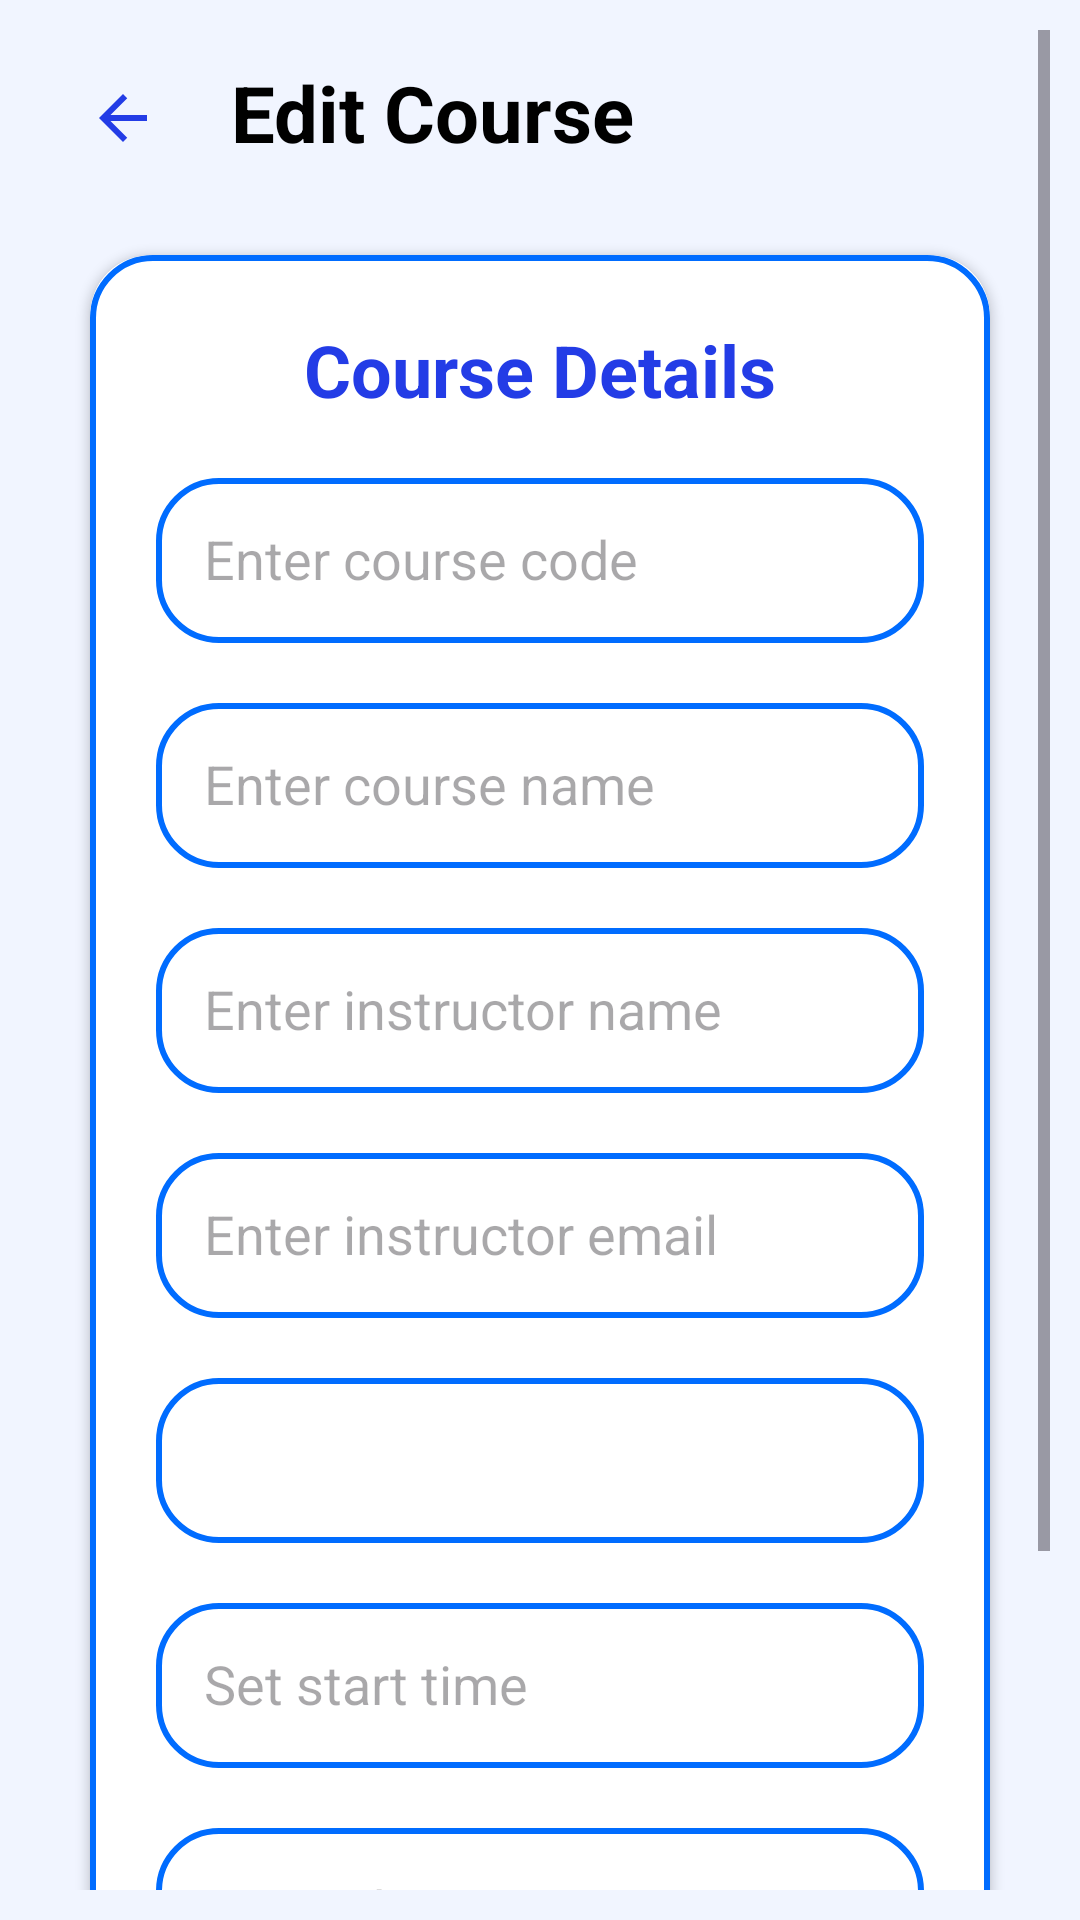

Screen size 1080px x 1920px. Icon name, then its box in pixels as Rect(x1, y1, x2, y2):
arrow back: Rect(99, 94, 147, 142)
